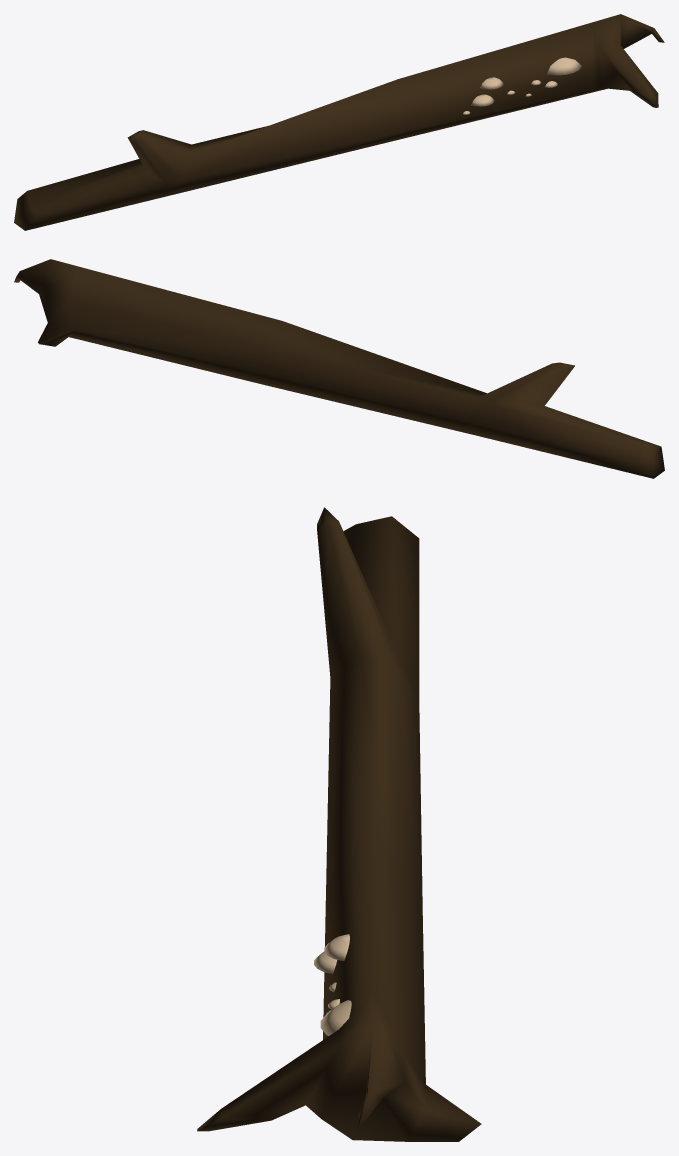
Rendered from fallentree_20210127.fbx.
The picture shows the model from 3 angles, top to bottom: view 1: azimuth 30°, elevation 25°; view 2: azimuth 150°, elevation 25°; view 3: azimuth 270°, elevation 25°; orthographic projection. The views are drawn at different scales.
Visible parts, largest first — view 1: fallen tree; view 2: fallen tree; view 3: fallen tree.
Boxes of the visible parts, x1=… form: fallen tree: x1=14, y1=14, x2=664, y2=230; fallen tree: x1=14, y1=259, x2=664, y2=478; fallen tree: x1=197, y1=507, x2=481, y2=1141.
Bounding box in the file's own units: 2.74 × 0.3075 × 0.5268.
